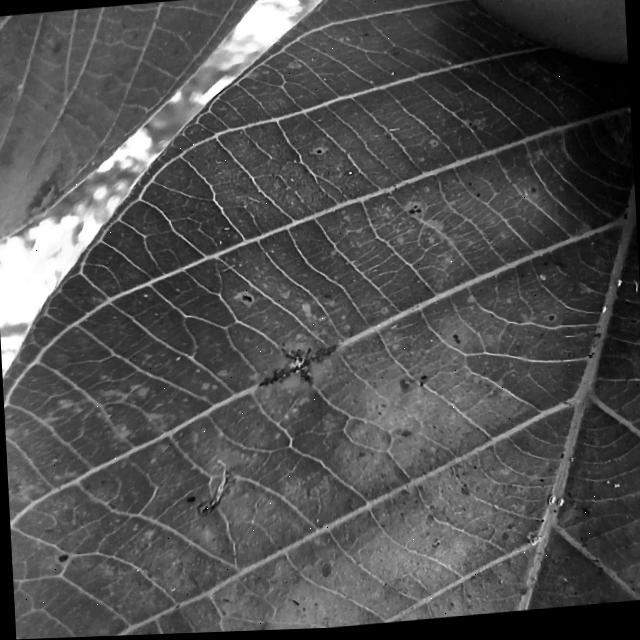Corynespora: (256, 346, 340, 393)
